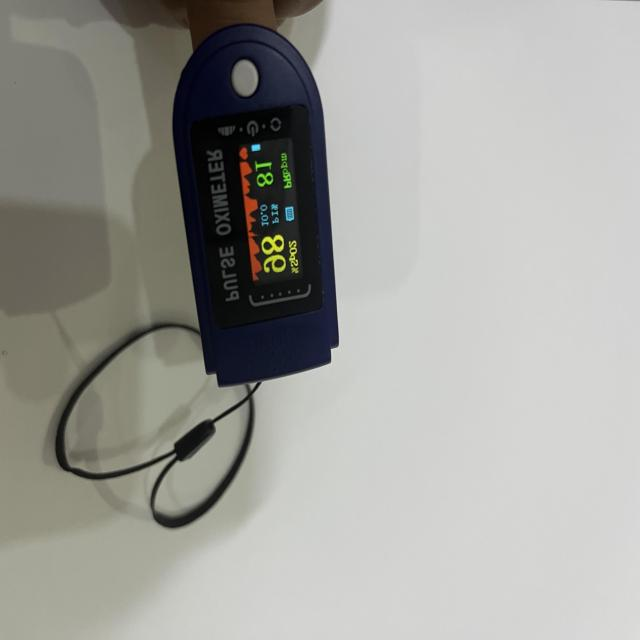spo2: (172, 24, 341, 389)
